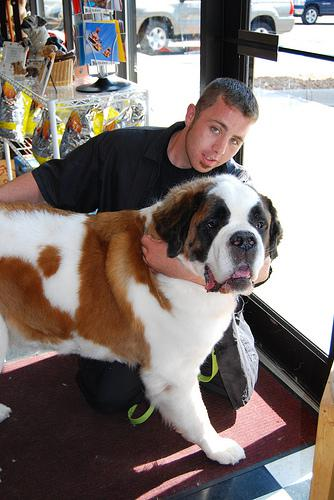dog-saint_bernard: (152, 173, 280, 291)
